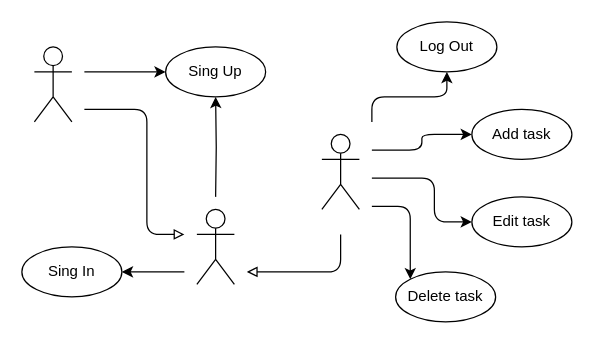
This 594x344 diagram has some shape labels left out. Here are the shapes that lost their labels. From the top down, the centre of each, then its label:
pixel 52 84: Guest
pixel 340 171: Registered User
pixel 215 246: User
